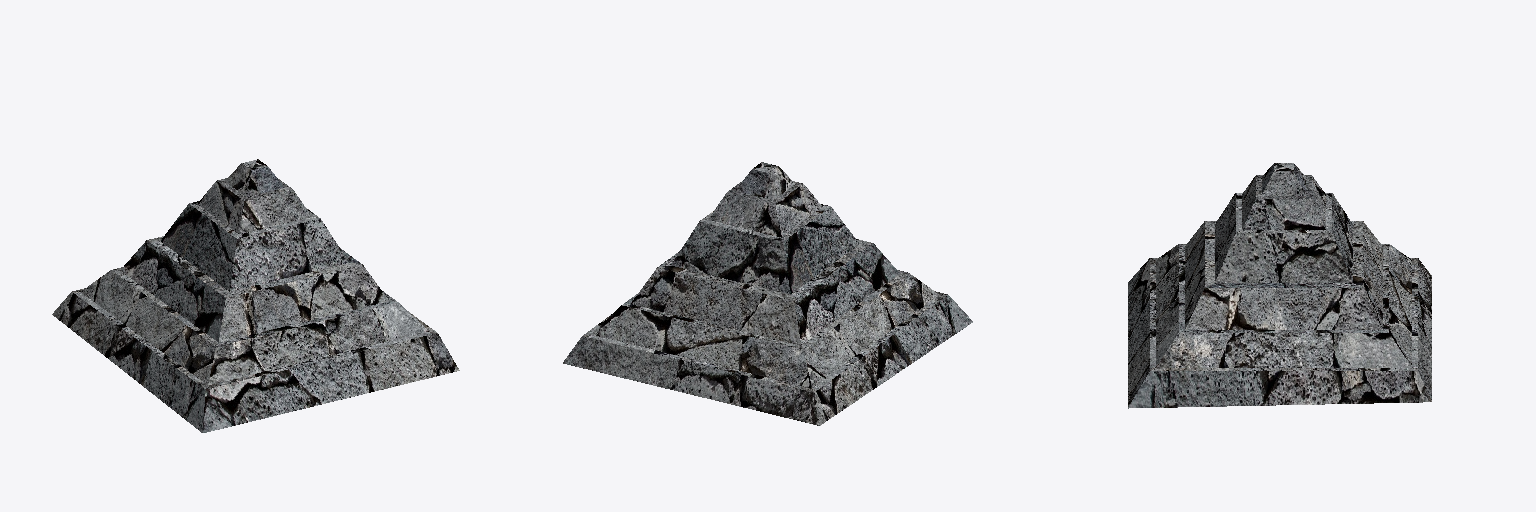
3 renders of one model, left to right at view 1: azimuth 30°, elevation 25°; view 2: azimuth 150°, elevation 25°; view 3: azimuth 270°, elevation 25°, orthographic.
Parts seen in each view (by area): view 1: Plane; view 2: Plane; view 3: Plane.
Boxes of the visible parts, box(x1,y1,x2,y2) form: Plane: box(52, 159, 459, 432); Plane: box(563, 162, 972, 425); Plane: box(1128, 163, 1431, 408).
Size of the model in its own units: 0.7253 by 0.4832 by 0.7401.
1 materials, 1 textured.